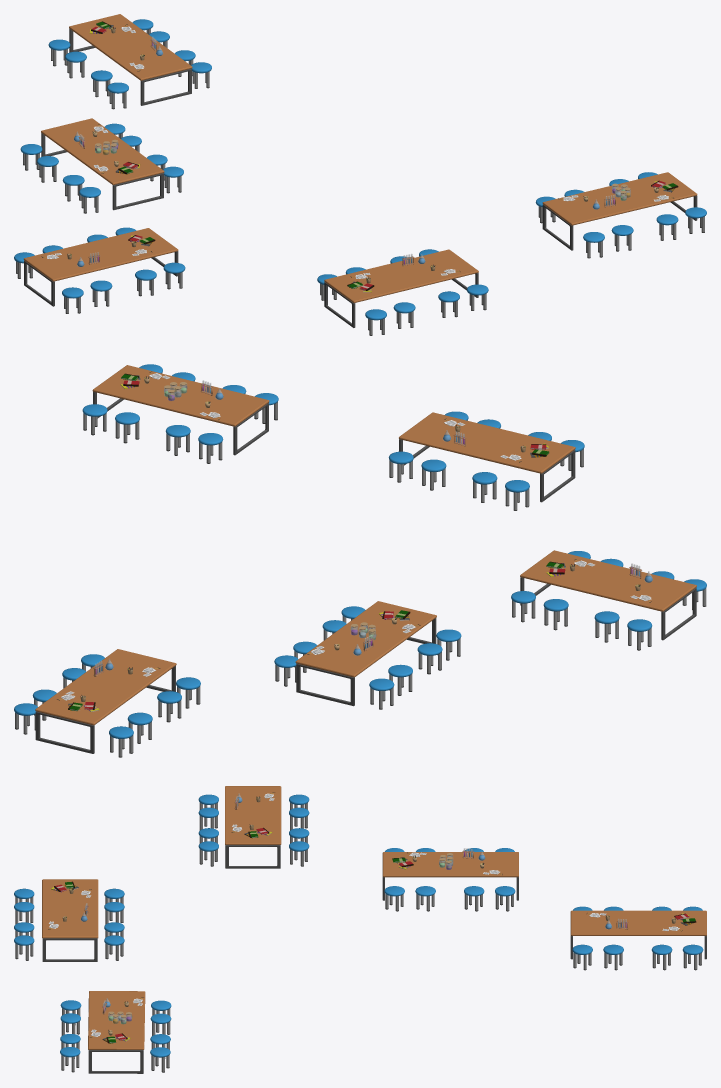
File: d-roombomp-l-hsab-labor.glb
The picture shows the model from 3 angles, top to bottom: view 1: azimuth 30°, elevation 25°; view 2: azimuth 150°, elevation 25°; view 3: azimuth 270°, elevation 25°; orthographic projection. The views are drawn at different scales.
Parts seen in each view (by area): view 1: assets-dcomp.012, x8Table.009, assets-dcomp.013, assets-dcomp.014, x8Table.011; view 2: assets-dcomp.012, x8Table.009, x8Table.011, assets-dcomp.013, assets-dcomp.014; view 3: assets-dcomp.014, x8Table.011, assets-dcomp.013, x8Table.009, assets-dcomp.012.
Boxes of the visible parts, box(x1,y1,x2,y2) form: assets-dcomp.012: box(48, 14, 211, 109); x8Table.009: box(20, 118, 183, 213); assets-dcomp.013: box(14, 227, 185, 313); assets-dcomp.014: box(317, 249, 488, 335); x8Table.011: box(535, 172, 706, 258); assets-dcomp.012: box(14, 649, 200, 757); x8Table.009: box(274, 601, 461, 709); x8Table.011: box(82, 364, 278, 463); assets-dcomp.013: box(511, 550, 706, 650); assets-dcomp.014: box(388, 411, 584, 510); assets-dcomp.014: box(14, 879, 124, 961); x8Table.011: box(60, 991, 171, 1073); assets-dcomp.013: box(198, 786, 309, 868); x8Table.009: box(382, 848, 518, 911); assets-dcomp.012: box(570, 906, 706, 970).
Size of the model in its own units: 22.03 by 1.39 by 24.56.
Materials: 4 (3 with a texture image).
